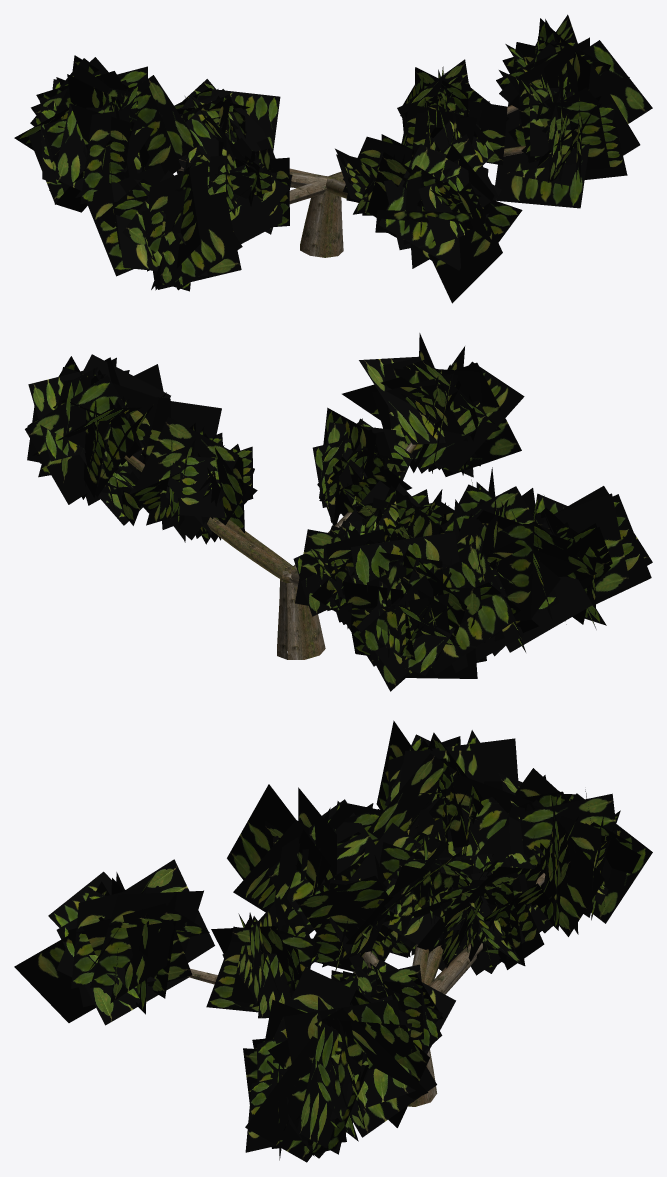
File: fig_2.glb
3 renders of one model, top to bottom at view 1: azimuth 30°, elevation 25°; view 2: azimuth 150°, elevation 25°; view 3: azimuth 270°, elevation 25°, orthographic. The views are drawn at different scales.
Visible parts, largest first — view 1: fig; view 2: fig; view 3: fig.
Part boxes in pixels (<box>): fig: <box>14,14,652,303</box>; fig: <box>25,333,652,691</box>; fig: <box>14,720,652,1162</box>.
Size of the model in its own units: 14.08 by 5.11 by 11.84.
2 materials, 2 textured.
